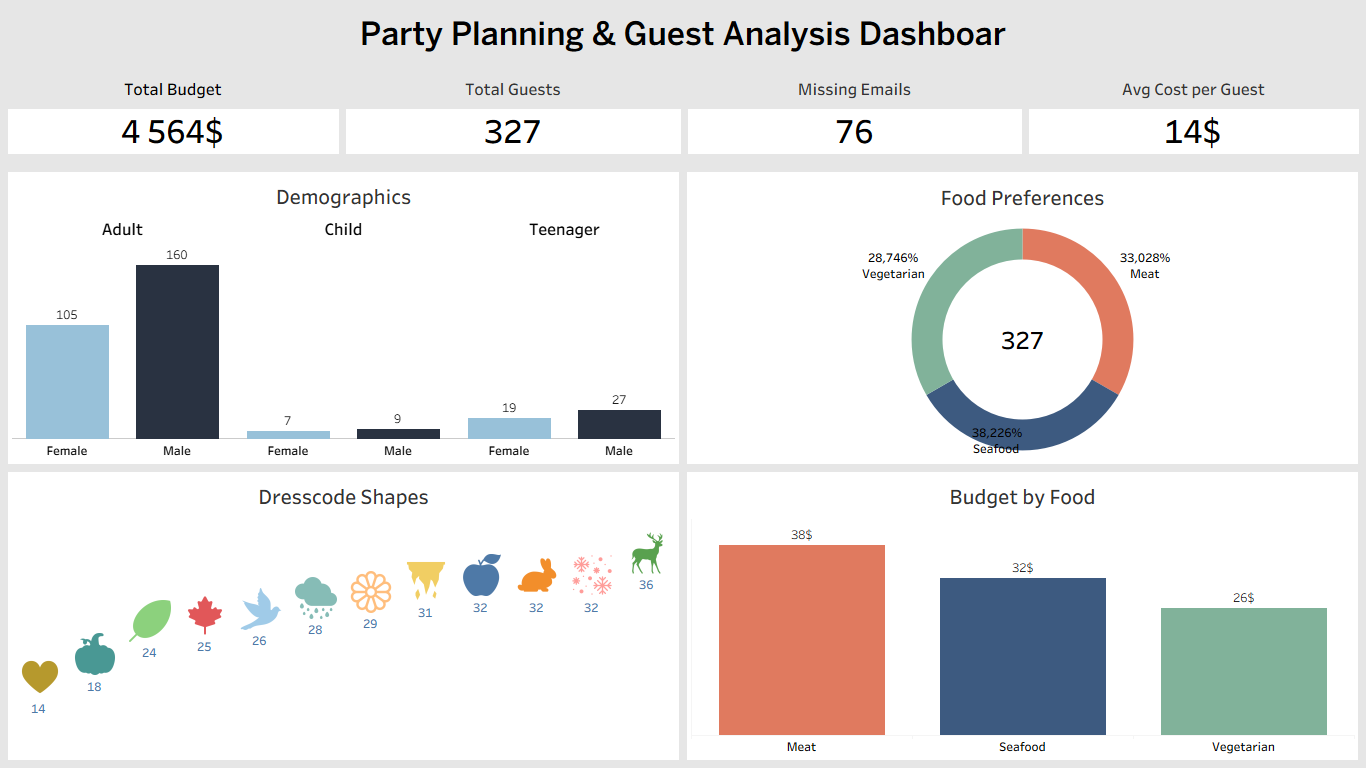

What the dashboard file says about the page in this screenshot:
{"tool":"tableau","page":{"name":"Party Planning & Guest Analysis Dashboard","canvas":[1366,768],"ordinal":0},"visuals":[{"type":"text","box":[0,0,1366,68]},{"type":"worksheet","title":"Total Budget","mark":"Automatic","box":[0,68,342,100]},{"type":"worksheet","title":"Total Guests","mark":"Automatic","box":[342,68,342,100]},{"type":"worksheet","title":"Missing Emails","mark":"Automatic","box":[684,68,341,100]},{"type":"worksheet","title":"Avg Cost per Guest","mark":"Automatic","box":[1025,68,341,100]},{"type":"worksheet","title":"Demographics","mark":"Automatic","rows":["Number"],"cols":["Age Group","Gender"],"box":[0,168,683,300]},{"type":"worksheet","title":"Food Preferences","mark":"Pie","rows":["Calculation_0855189701029892","Calculation_0855189701042182"],"box":[683,168,683,300]},{"type":"worksheet","title":"Dresscode Shapes","mark":"Shape","rows":["Number"],"cols":["Attribute"],"box":[0,468,683,300]},{"type":"worksheet","title":"Budget by Food","mark":"Automatic","rows":["Costs per Portion, $"],"cols":["Food Preferences (Costs!per!Portion)"],"box":[683,468,683,300]}]}

Visuals, with their boxes in screenshot pixels (x1, y1, x2, y2), scaled from the page's 1366x768 canvas onto the 1366x768 screenshot:
text: 0, 0, 1365, 68
"Total Budget" worksheet: 0, 68, 342, 168
"Total Guests" worksheet: 342, 68, 684, 168
"Missing Emails" worksheet: 684, 68, 1025, 168
"Avg Cost per Guest" worksheet: 1025, 68, 1365, 168
"Demographics" worksheet: 0, 168, 683, 468
"Food Preferences" worksheet (Pie marks): 683, 168, 1365, 468
"Dresscode Shapes" worksheet (Shape marks): 0, 468, 683, 767
"Budget by Food" worksheet: 683, 468, 1365, 767
